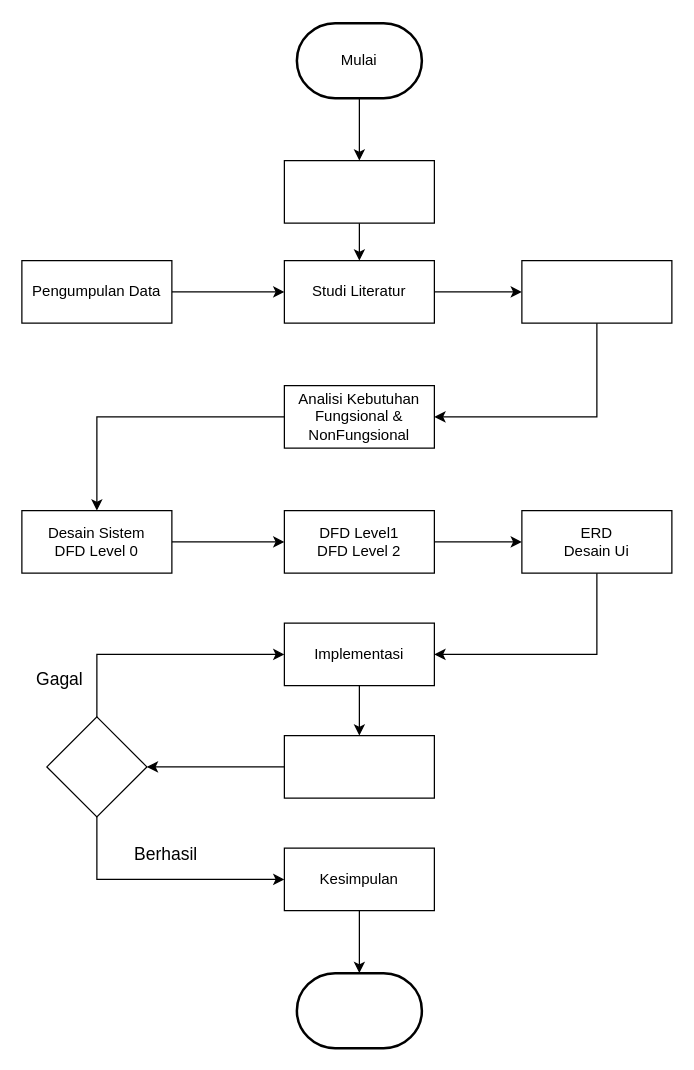
Image size: 694x1070. Some labels were removed from this diagram. The centre of each missing label's shape, as x and y in pixels:
"Identifikasi Masalah" goes at point (358, 191).
"Kondisi" goes at point (96, 766).
"Pengujian" goes at point (358, 766).
"Selesai" goes at point (358, 1010).
"Wawancara" goes at point (596, 291).
